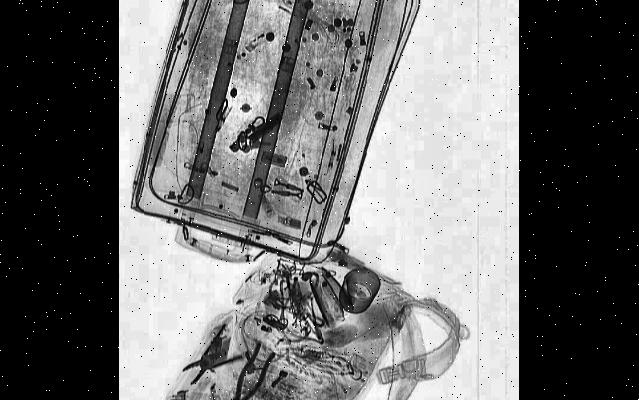Pliers: (180, 315, 244, 400), (218, 331, 277, 400)
